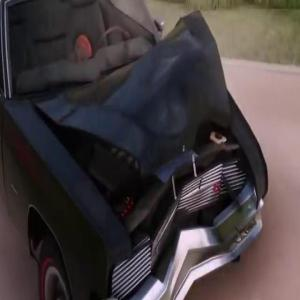negligible: (0, 0, 273, 300)
